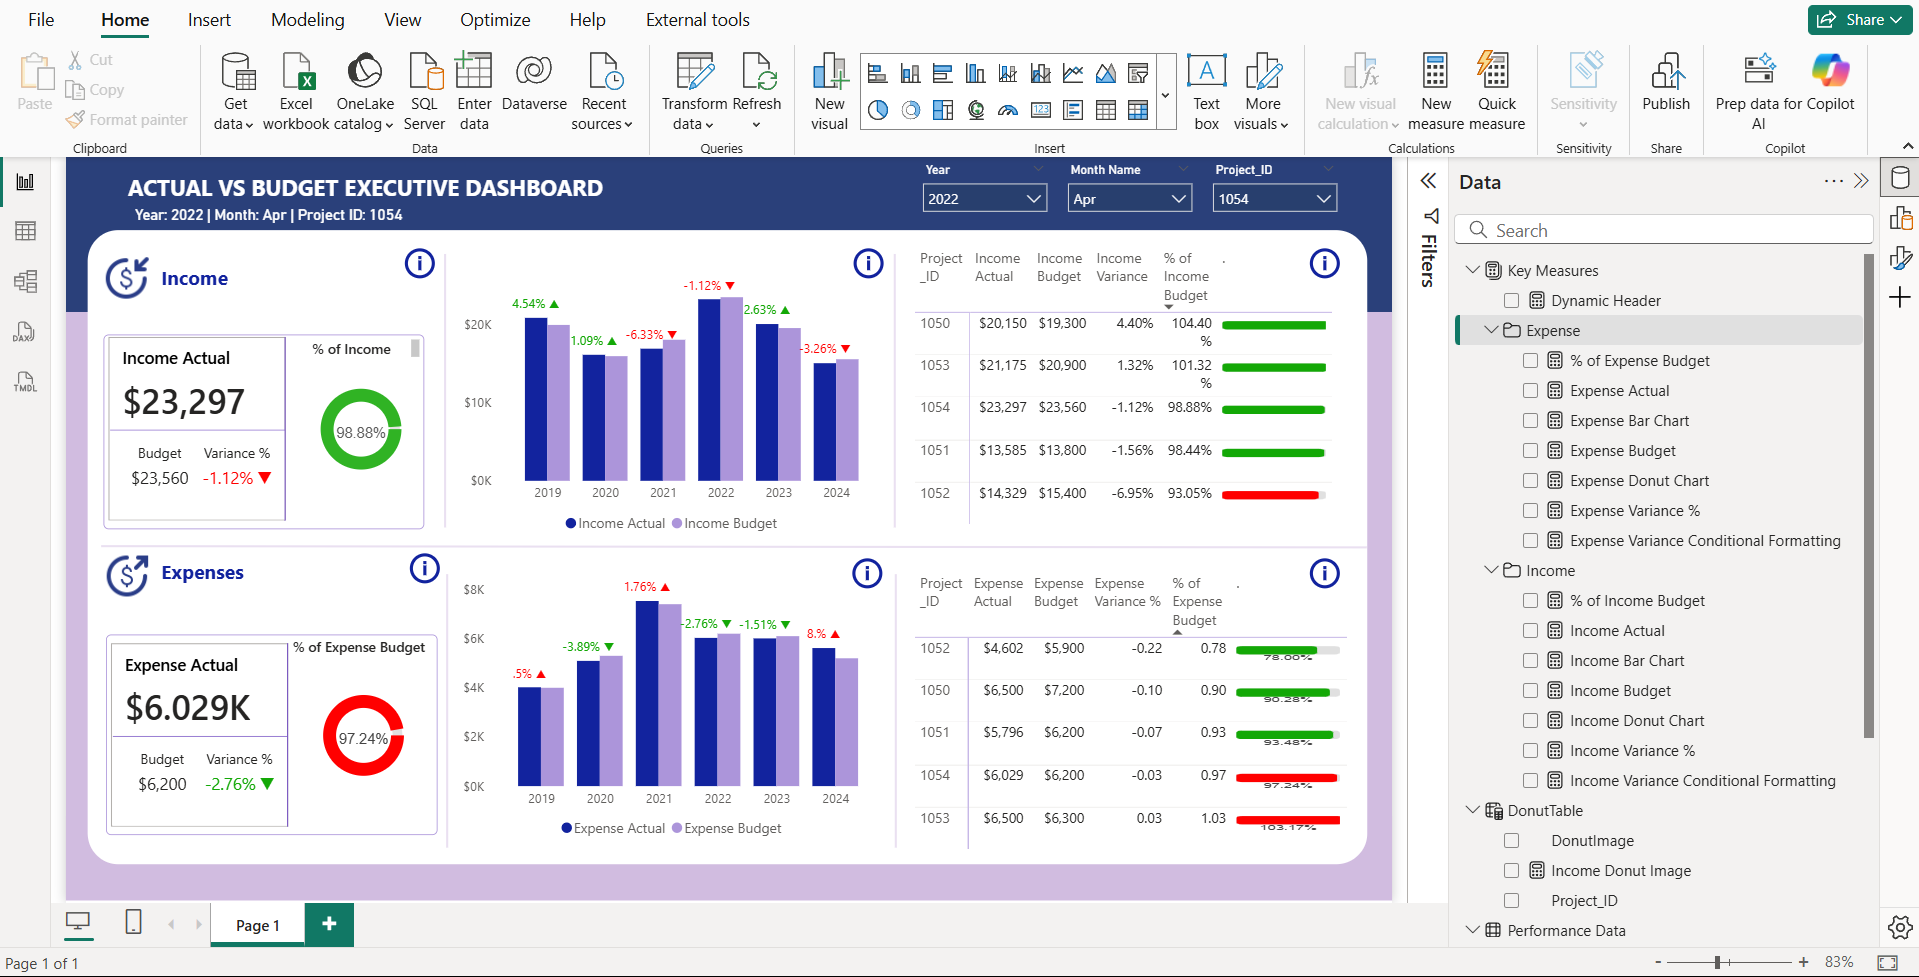

The dashboard page shown, as its layout file describes it:
{"tool":"powerbi","page":{"name":"Page 1","canvas":[1280,720],"ordinal":0},"visuals":[{"type":"slicer","fields":{"Values":["Performance Data.Year"]},"box":[817.1,0,140,62.9],"z":0},{"type":"shape","box":[36,170.6,309.5,187.8],"z":0,"group":"g1"},{"type":"shape","box":[38.8,460.4,320.3,193.2],"z":0,"group":"g2"},{"type":"slicer","fields":{"Values":["Performance Data.Month Name"]},"box":[957.1,0,140,62.9],"z":1000},{"type":"slicer","fields":{"Values":["Performance Data.Project_ID"]},"box":[1097.1,0,140,62.9],"z":2000},{"type":"group","id":"g1","title":"Group 1","box":[35.8,168.7,320.9,189.6],"z":3000},{"type":"cardVisual","fields":{"Data":["Key Measures.Income Actual"]},"box":[35.8,168.7,181,187],"z":4000,"group":"g1"},{"type":"group","id":"g2","title":"Group 1","box":[38.8,458.2,322.4,195.5],"z":4000},{"type":"cardVisual","fields":{"Data":["Key Measures.Expense Actual"]},"box":[38.9,464.4,181,187],"z":4000,"group":"g2"},{"type":"clusteredColumnChart","fields":{"Y":["Key Measures.Income Actual","Key Measures.Income Budget"],"Category":["Performance Data.Year"]},"box":[379.1,98.5,414.9,273.1],"z":5000},{"type":"cardVisual","fields":{"Data":["Key Measures.% of Income Budget"]},"box":[217.1,199,139.2,128.4],"z":5000,"group":"g1"},{"type":"cardVisual","fields":{"Data":["Key Measures.% of Expense Budget"]},"box":[220.1,494.7,139.2,128.4],"z":5000,"group":"g2"},{"type":"clusteredColumnChart","fields":{"Y":["Key Measures.Expense Actual","Key Measures.Expense Budget"],"Category":["Performance Data.Year"]},"box":[379.1,392.5,414.9,274.6],"z":6000},{"type":"pivotTable","fields":{"Rows":["Performance Data.Project_ID"],"Values":["Key Measures.Income Actual","Key Measures.Income Budget","Key Measures.Income Variance %","Key Measures.% of Income Budget","Key Measures.Income Bar Chart"]},"box":[814.9,83.6,435.8,277.6],"z":7000},{"type":"textbox","box":[209,170.6,136.5,31.1],"z":7001,"group":"g1"},{"type":"textbox","box":[205,458.2,155.4,39.2],"z":7001,"group":"g2"},{"type":"pivotTable","fields":{"Rows":["Performance Data.Project_ID"],"Values":["Key Measures.Expense Actual","Key Measures.Expense Budget","Key Measures.Expense Variance %","Key Measures.% of Expense Budget","Key Measures.Expense Bar Chart"]},"box":[814.9,397,435.8,277.6],"z":8000},{"type":"textbox","box":[86.6,98.5,113.4,35.8],"z":9000},{"type":"textbox","box":[86.6,382.1,113.4,38.8],"z":10000},{"type":"image","box":[28.4,73.1,58.2,86.6],"z":11000},{"type":"image","box":[0,374.6,117.9,58.2],"z":12000},{"type":"textbox","box":[49.8,10,479.3,38.4],"z":13000},{"type":"card","fields":{"Values":["Key Measures.Dynamic Header"]},"box":[22.8,42.7,345.6,29.9],"z":14000},{"type":"actionButton","box":[322.4,83.6,38.8,38.8],"z":15000},{"type":"actionButton","box":[326.9,377.6,40.3,38.8],"z":16000},{"type":"actionButton","box":[753.7,382.1,40.3,38.8],"z":17000},{"type":"actionButton","box":[1195.5,382.1,41.8,38.8],"z":18000},{"type":"actionButton","box":[755.2,83.6,40.3,38.8],"z":19000},{"type":"actionButton","box":[1195.5,83.6,41.8,38.8],"z":20000}]}

Visuals, with their boxes on the page's 1280x720 design canvas (x1, y1, x2, y2). These are canvas units, not pixel positions in the 1919x977 screenshot, which may show the page scaled, cropped or inside an application window:
slicer - Performance Data.Year: 817, 0, 957, 63
shape: 36, 171, 346, 358
shape: 39, 460, 359, 654
slicer - Performance Data.Month Name: 957, 0, 1097, 63
slicer - Performance Data.Project_ID: 1097, 0, 1237, 63
"Group 1" group: 36, 169, 357, 358
cardVisual - Key Measures.Income Actual: 36, 169, 217, 356
"Group 1" group: 39, 458, 361, 654
cardVisual - Key Measures.Expense Actual: 39, 464, 220, 651
clusteredColumnChart - Key Measures.Income Actual x Key Measures.Income Budget: 379, 98, 794, 372
cardVisual - Key Measures.% of Income Budget: 217, 199, 356, 327
cardVisual - Key Measures.% of Expense Budget: 220, 495, 359, 623
clusteredColumnChart - Key Measures.Expense Actual x Key Measures.Expense Budget: 379, 392, 794, 667
pivotTable - Performance Data.Project_ID x Key Measures.Income Actual: 815, 84, 1251, 361
textbox: 209, 171, 346, 202
textbox: 205, 458, 360, 497
pivotTable - Performance Data.Project_ID x Key Measures.Expense Actual: 815, 397, 1251, 675
textbox: 87, 98, 200, 134
textbox: 87, 382, 200, 421
image: 28, 73, 87, 160
image: 0, 375, 118, 433
textbox: 50, 10, 529, 48
card - Key Measures.Dynamic Header: 23, 43, 368, 73
actionButton: 322, 84, 361, 122
actionButton: 327, 378, 367, 416
actionButton: 754, 382, 794, 421
actionButton: 1196, 382, 1237, 421
actionButton: 755, 84, 796, 122
actionButton: 1196, 84, 1237, 122
